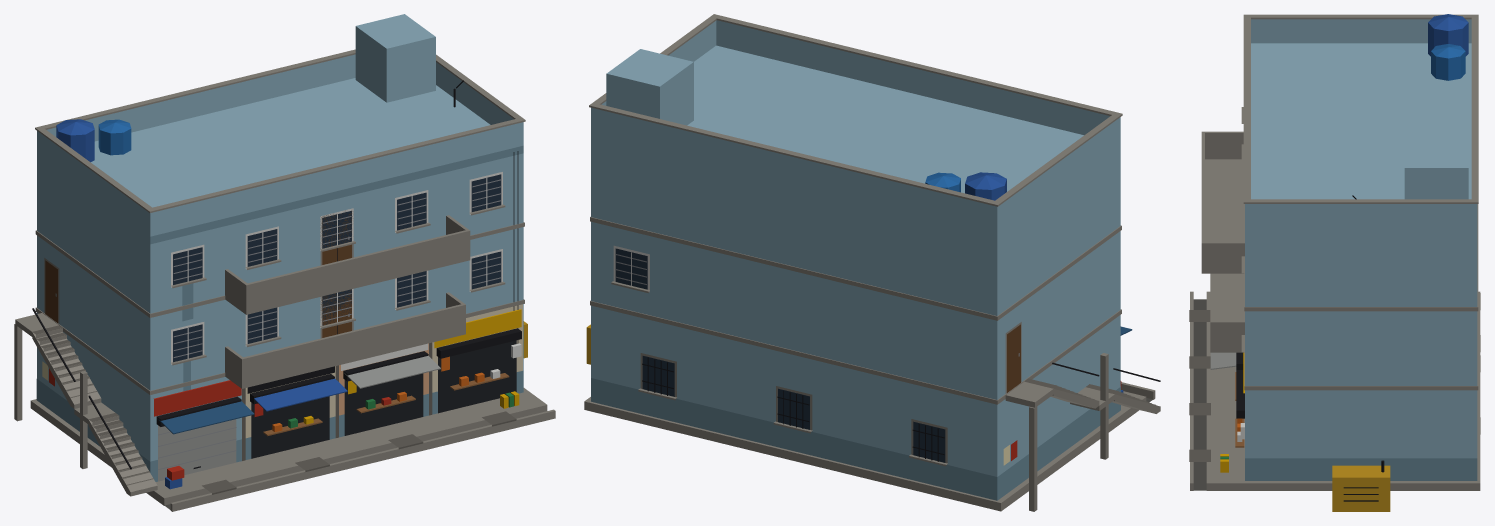
File: bld_phone-plaza.glb
3 views of the same model, side by side, from view 1: azimuth 30°, elevation 25°; view 2: azimuth 150°, elevation 25°; view 3: azimuth 270°, elevation 25° (orthographic). The views are drawn at different scales.
Parts seen in each view (by area): view 1: body; view 2: body; view 3: body.
Boxes of the visible parts, bbox=[...] form: body: bbox=[14, 14, 555, 511]; body: bbox=[584, 14, 1160, 511]; body: bbox=[1189, 14, 1480, 511].
Size of the model in its own units: 18.26 by 12 by 10.04.
